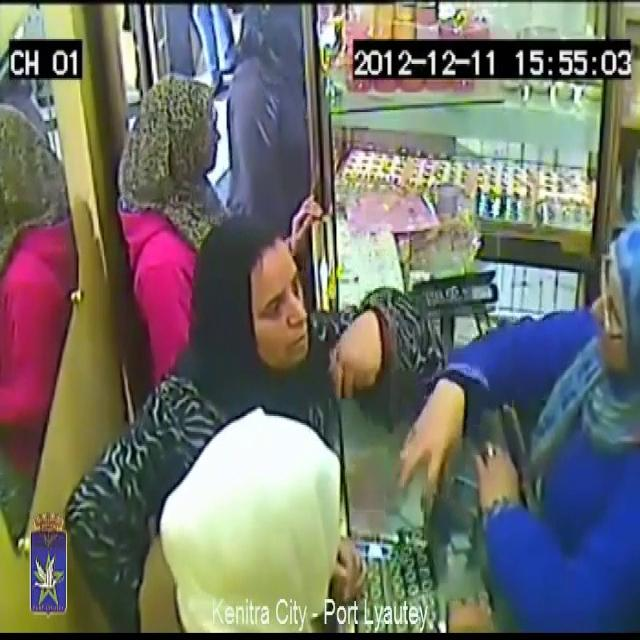normal: (466, 138, 639, 640), (139, 404, 407, 640), (200, 200, 332, 418), (124, 68, 232, 314), (228, 0, 314, 192)
